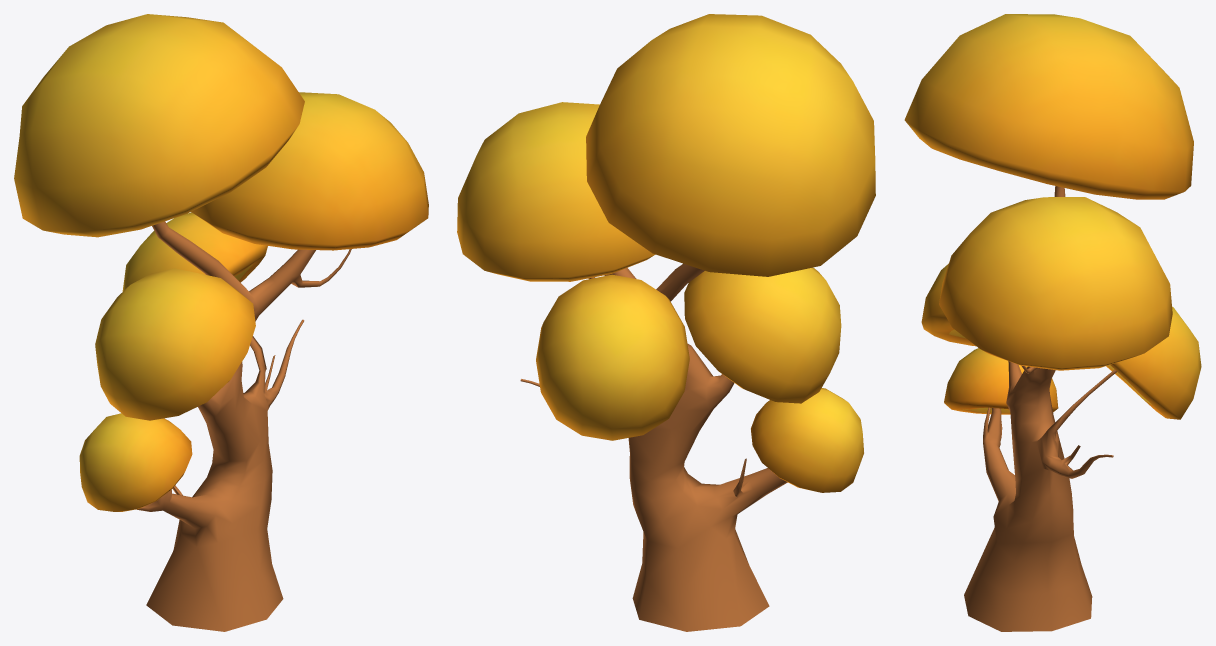
File: SM_Tree_24.fbx
3 renders of one model, left to right at view 1: azimuth 30°, elevation 25°; view 2: azimuth 150°, elevation 25°; view 3: azimuth 270°, elevation 25°, orthographic. The views are drawn at different scales.
Parts seen in each view (by area): view 1: SM_Tree_24; view 2: SM_Tree_24; view 3: SM_Tree_24.
Part boxes in pixels (x1,y1,x2,y2): SM_Tree_24: (14,14,428,631); SM_Tree_24: (457,14,875,631); SM_Tree_24: (904,14,1201,631).
Size of the model in its own units: 788 by 1147 by 549.
